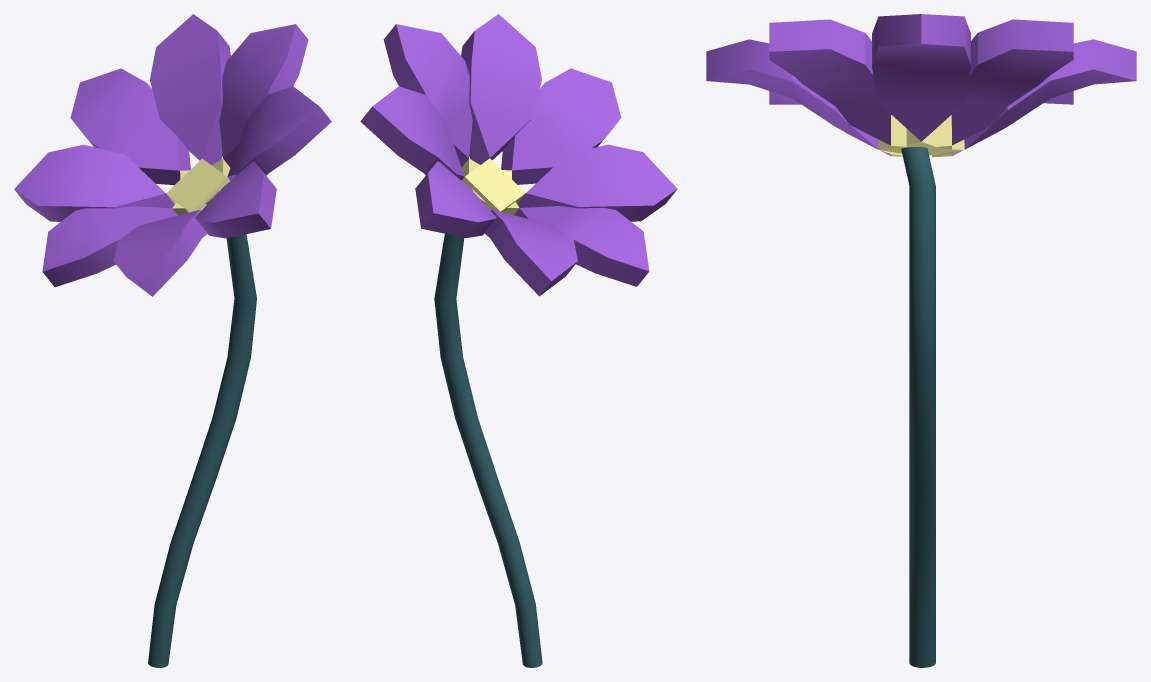
File: FBX_Big_Flower_Basic.fbx
The picture shows the model from 3 angles, left to right: view 1: azimuth 30°, elevation 25°; view 2: azimuth 150°, elevation 25°; view 3: azimuth 270°, elevation 25°; orthographic projection. The views are drawn at different scales.
Visible parts, largest first — view 1: pCylinder10; view 2: pCylinder10; view 3: pCylinder10.
Part boxes in pixels (<box>): pCylinder10: <box>14,14,331,667</box>; pCylinder10: <box>360,14,677,667</box>; pCylinder10: <box>706,14,1136,667</box>.
Bounding box in the file's own units: 1.22 × 2.65 × 1.41.
Materials: 1 (1 with a texture image).
